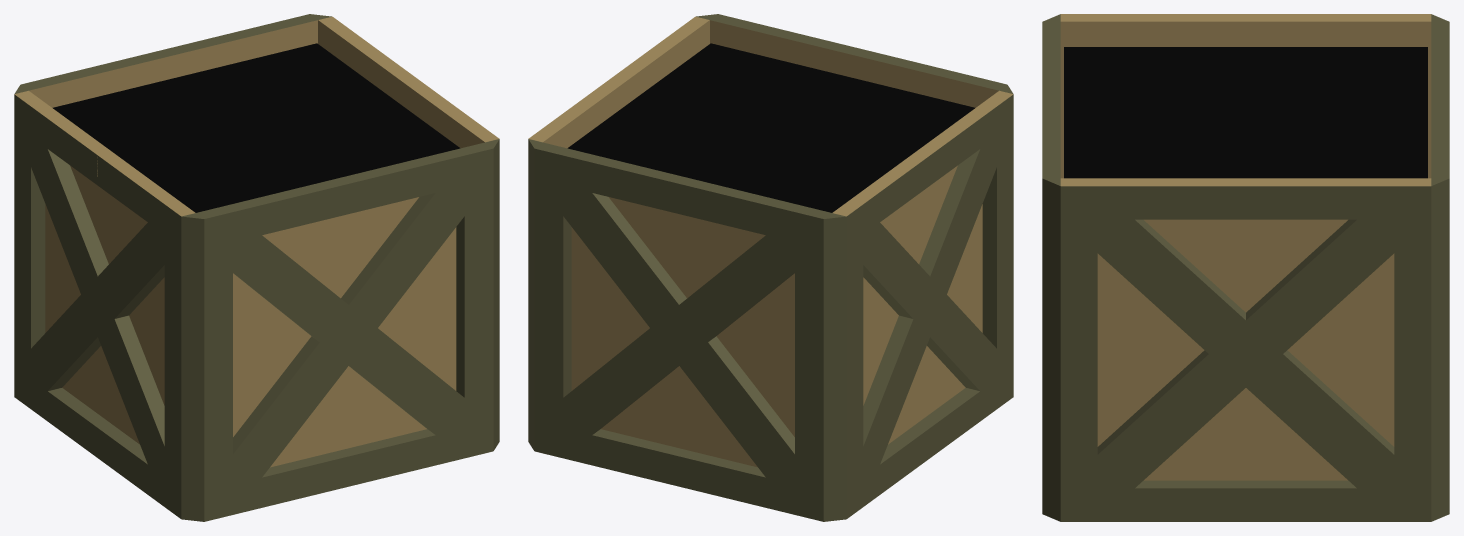
File: Crate hippo minigame.fbx
3 views of the same model, side by side, from view 1: azimuth 30°, elevation 25°; view 2: azimuth 150°, elevation 25°; view 3: azimuth 270°, elevation 25° (orthographic). The views are drawn at different scales.
Parts seen in each view (by area): view 1: Cube, Cube.001; view 2: Cube, Cube.001; view 3: Cube, Cube.001.
Boxes of the visible parts, left/top/right/bottom form: Cube: left=14, top=14, right=499, bottom=521; Cube.001: left=53, top=43, right=460, bottom=212; Cube: left=528, top=14, right=1013, bottom=521; Cube.001: left=567, top=43, right=974, bottom=212; Cube: left=1042, top=14, right=1449, bottom=521; Cube.001: left=1064, top=47, right=1427, bottom=178.
Bounding box in the file's own units: 220 × 200 × 220.
